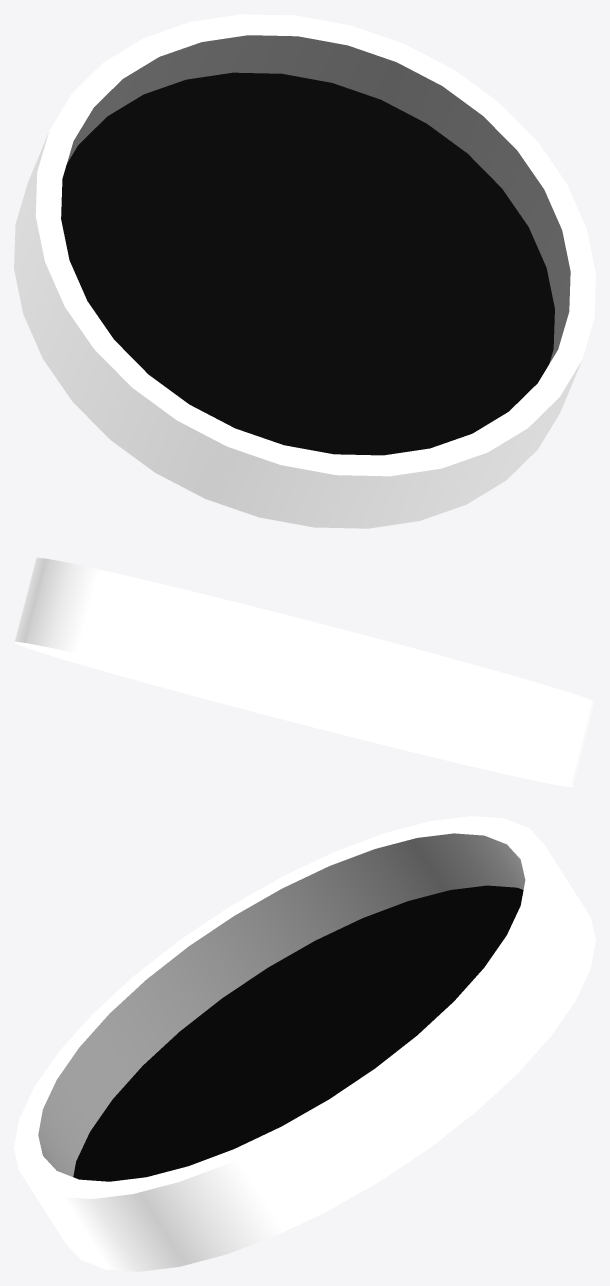
The model's file is hole.glb.
The picture shows the model from 3 angles, top to bottom: view 1: azimuth 30°, elevation 25°; view 2: azimuth 150°, elevation 25°; view 3: azimuth 270°, elevation 25°; orthographic projection. The views are drawn at different scales.
Visible parts, largest first — view 1: Circle; view 2: Circle; view 3: Circle.
Part boxes in pixels (box(x1,y1,x2,y2)): Circle: box(14, 14, 595, 528); Circle: box(14, 557, 595, 787); Circle: box(14, 816, 595, 1271).
Bounding box in the file's own units: 1.8 × 1.13 × 1.69.
1 material, 1 textured.
